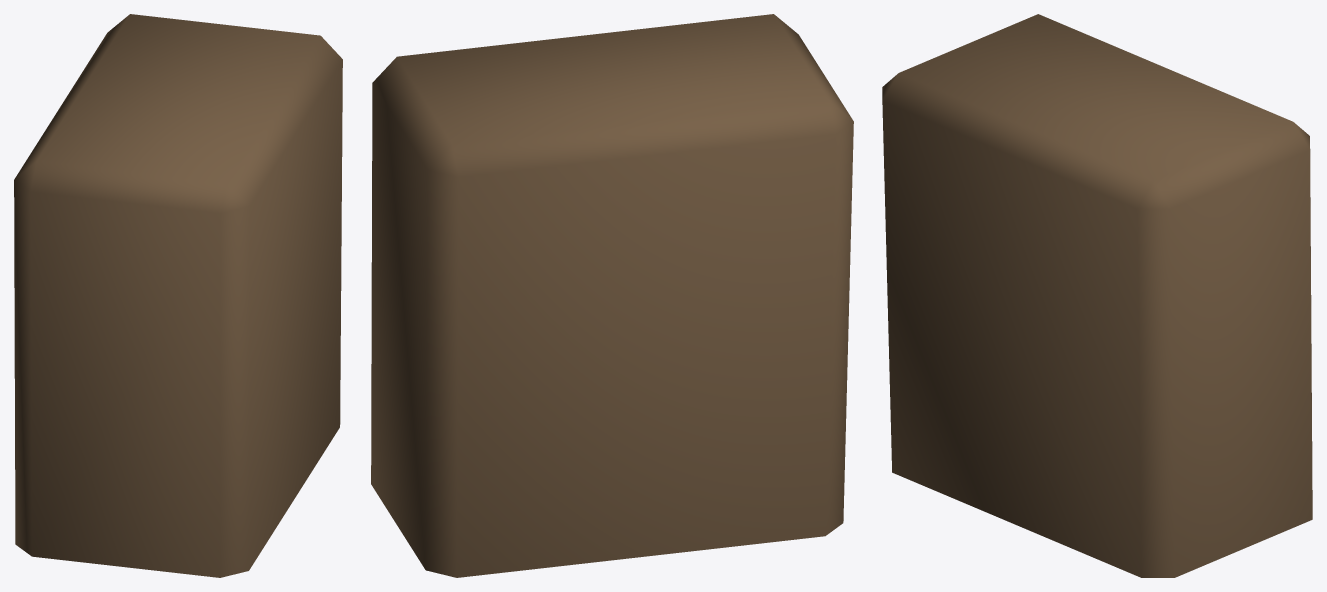
The model's file is rpgpp_ag_wall_connector_corner_01b_1m.fbx.
The picture shows the model from 3 angles, left to right: view 1: azimuth 30°, elevation 25°; view 2: azimuth 150°, elevation 25°; view 3: azimuth 270°, elevation 25°; orthographic projection. The views are drawn at different scales.
Visible parts, largest first — view 1: rpgpp_ag_wall_connector_corner_01b_1m; view 2: rpgpp_ag_wall_connector_corner_01b_1m; view 3: rpgpp_ag_wall_connector_corner_01b_1m.
Boxes of the visible parts, box(x1,y1,x2,y2) form: rpgpp_ag_wall_connector_corner_01b_1m: box(14, 14, 342, 577); rpgpp_ag_wall_connector_corner_01b_1m: box(371, 14, 853, 577); rpgpp_ag_wall_connector_corner_01b_1m: box(882, 14, 1312, 577).
Bounding box in the file's own units: 1.09 × 1.1 × 1.1.
